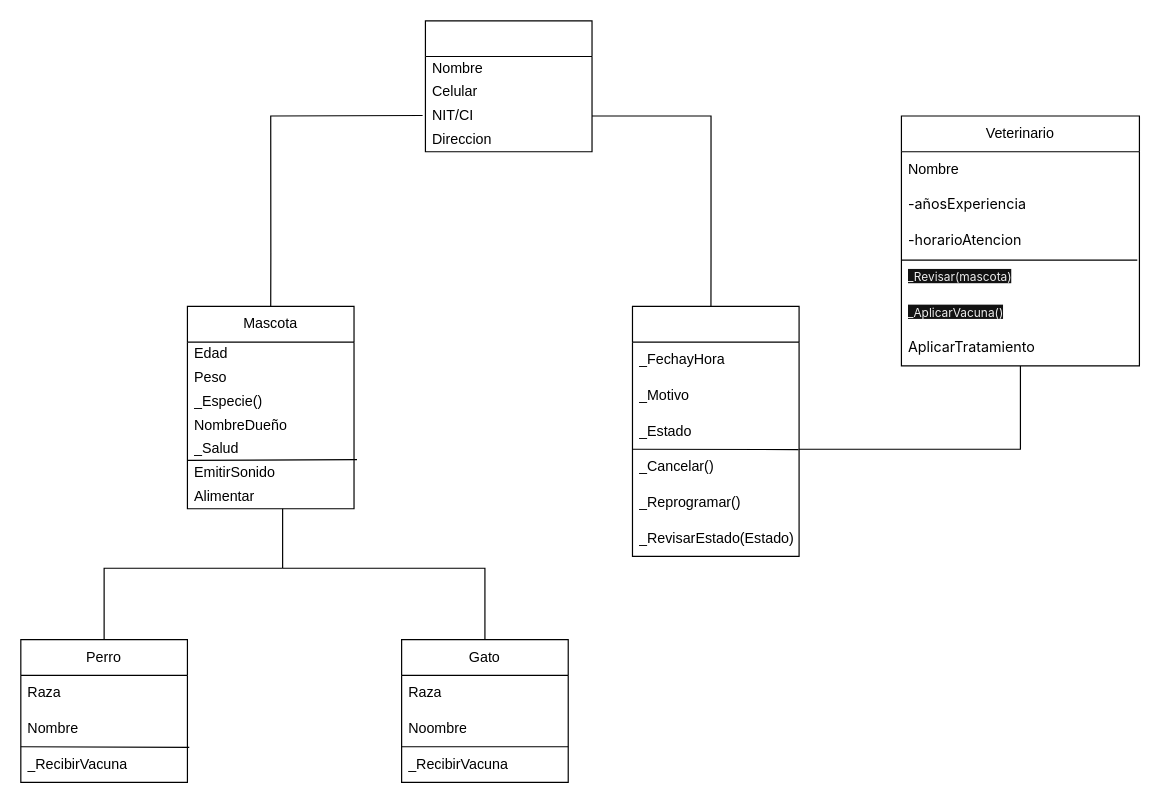
The diagram is 1160 pixels wide and 803 high, and some of its shapes have lost their labels. Here are the shapes that lost their labels. From the top down, the box of each, then its label:
(424, 20, 592, 152): Dueño
(631, 305, 799, 556): Citas
